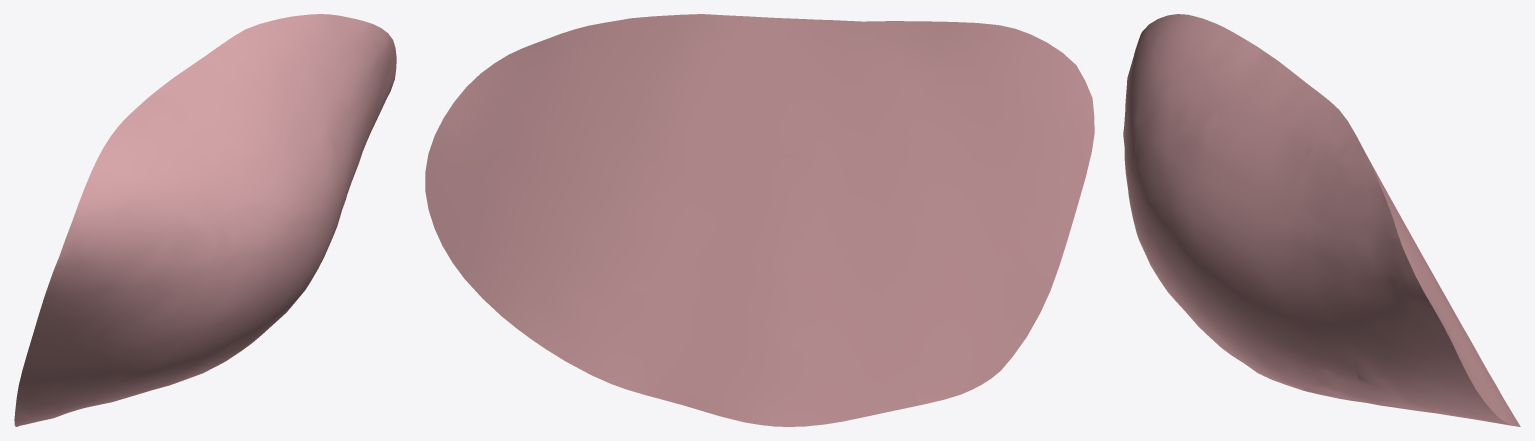
File: fma16956_mm1612.glb
3 views of the same model, side by side, from view 1: azimuth 30°, elevation 25°; view 2: azimuth 150°, elevation 25°; view 3: azimuth 270°, elevation 25° (orthographic).
Visible parts, largest first — view 1: FMA16956_MM1612; view 2: FMA16956_MM1612; view 3: FMA16956_MM1612.
Boxes of the visible parts, box(x1,y1,x2,y2) form: FMA16956_MM1612: box(14, 14, 396, 426); FMA16956_MM1612: box(425, 14, 1094, 426); FMA16956_MM1612: box(1123, 14, 1520, 426).
Size of the model in its own units: 0.0223 by 0.0145 by 0.0151.
